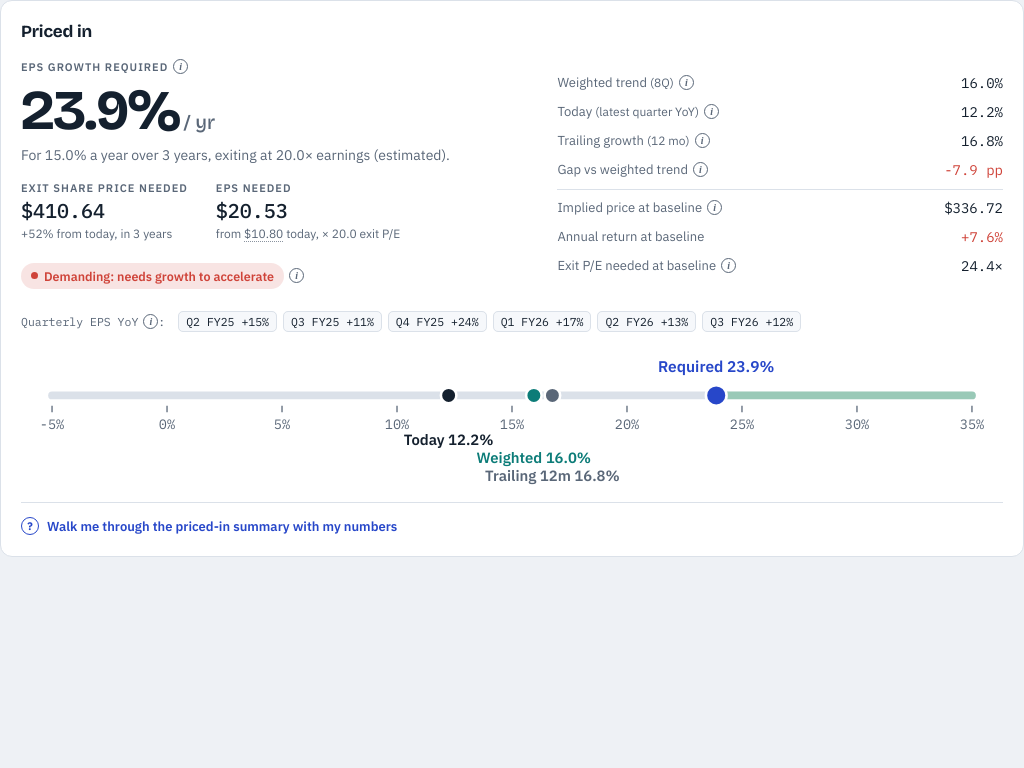
Test: the walkthrough of the priced-in summary › shows label samples in the verdict step
What coordinates should you click on to do the following:
click the button "Walk me through the priced-in summary with my numbers"
I would click on:
 (209, 526)
Its box is [21, 515, 397, 538].
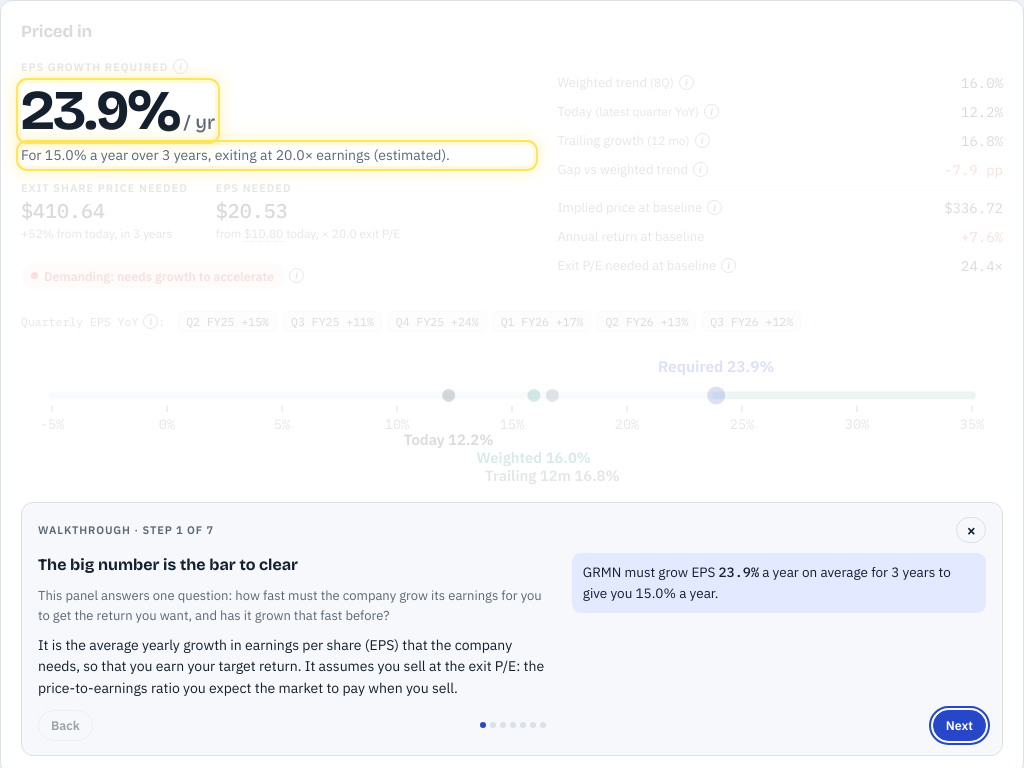
What coordinates should you click on to do the following:
click the button "Next"
I would click on:
 (959, 725)
Its box is [933, 710, 986, 741].
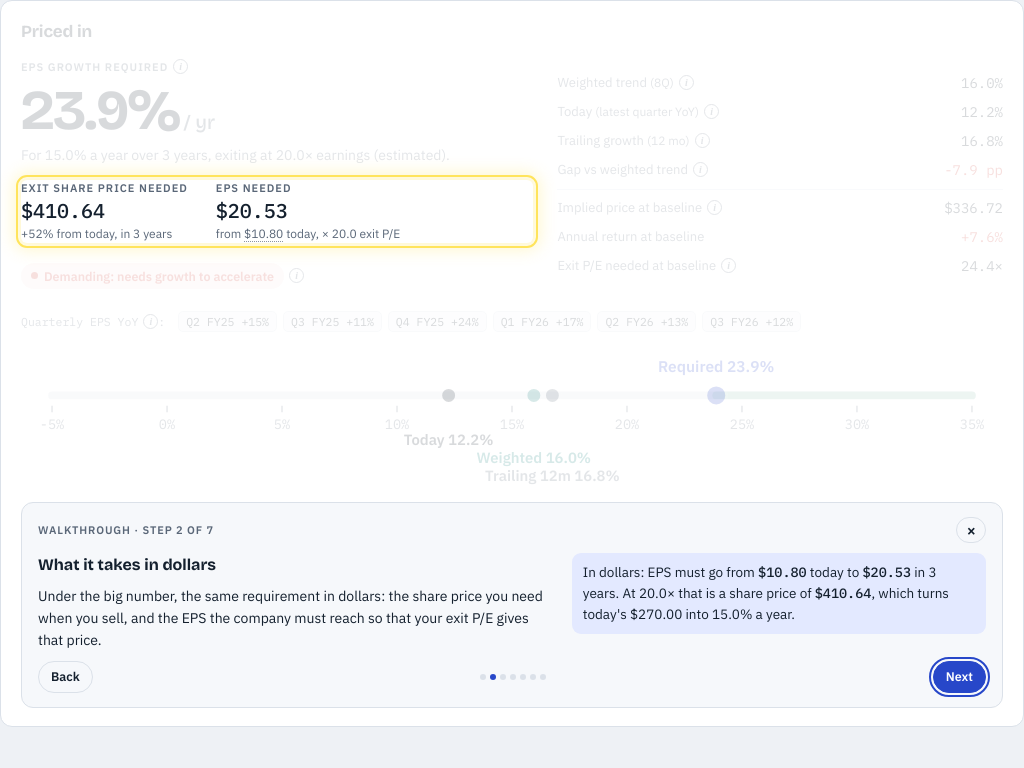
What coordinates should you click on to do the following:
click the button "Next"
I would click on:
 (959, 677)
Its box is [933, 661, 986, 693].
(page scrolled)
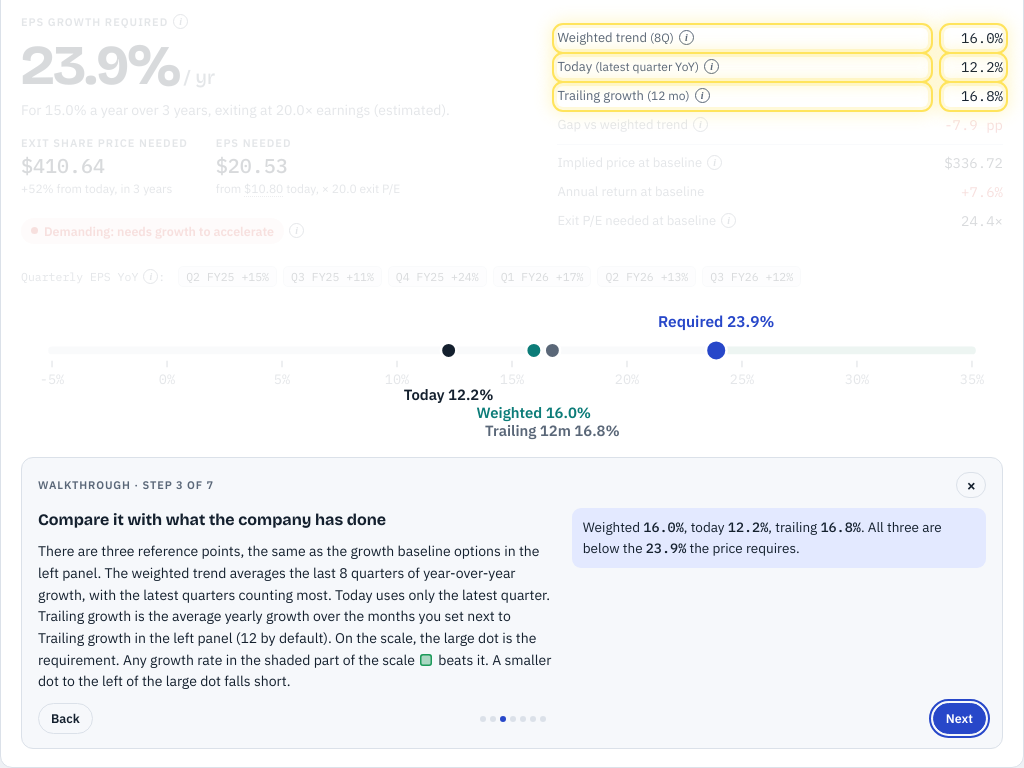
What coordinates should you click on to do the following:
click the button "Next"
I would click on:
 (959, 719)
Its box is [933, 703, 986, 734].
(page scrolled)
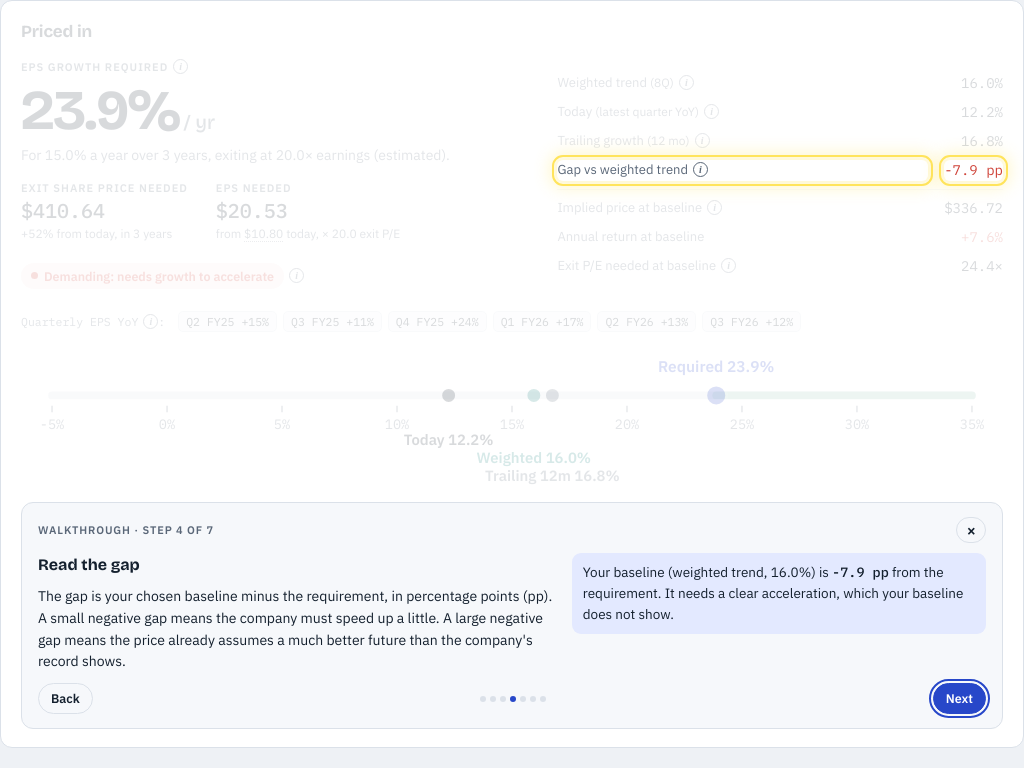
What coordinates should you click on to do the following:
click the button "Next"
I would click on:
 (959, 699)
Its box is [933, 683, 986, 714].
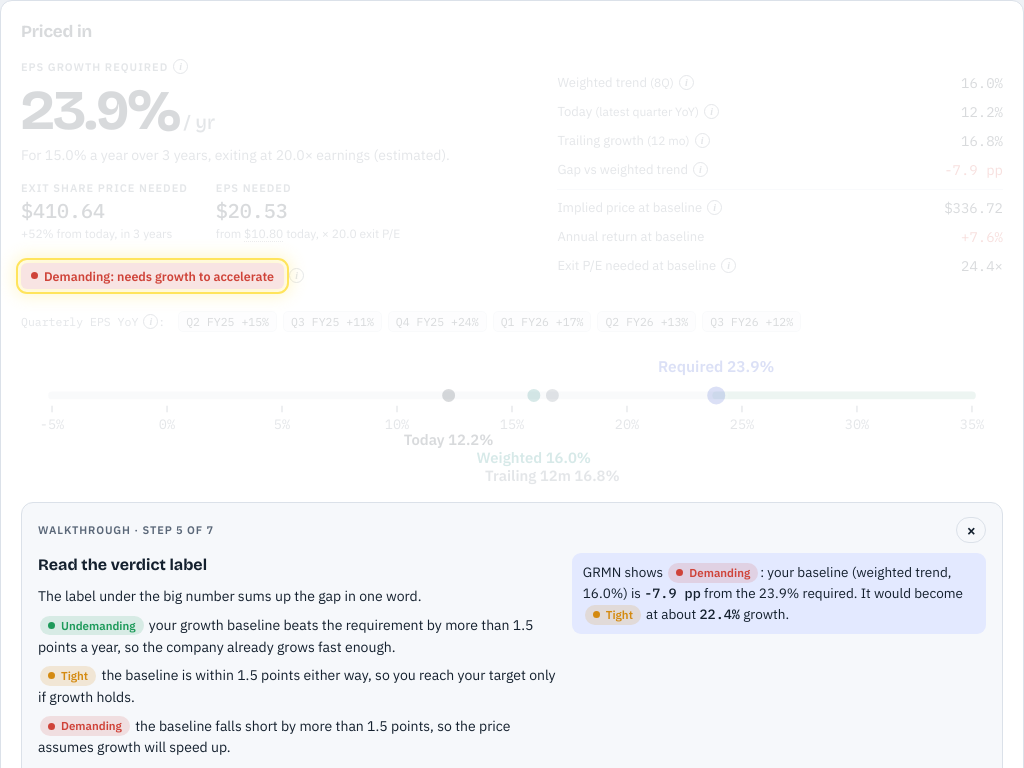
Expected: the text with class "bad" next to "shows" reads "Demanding", [689, 565, 750, 580]
Expected: the text with class "warn" next to "at about" reads "Tight", [606, 607, 633, 622]
